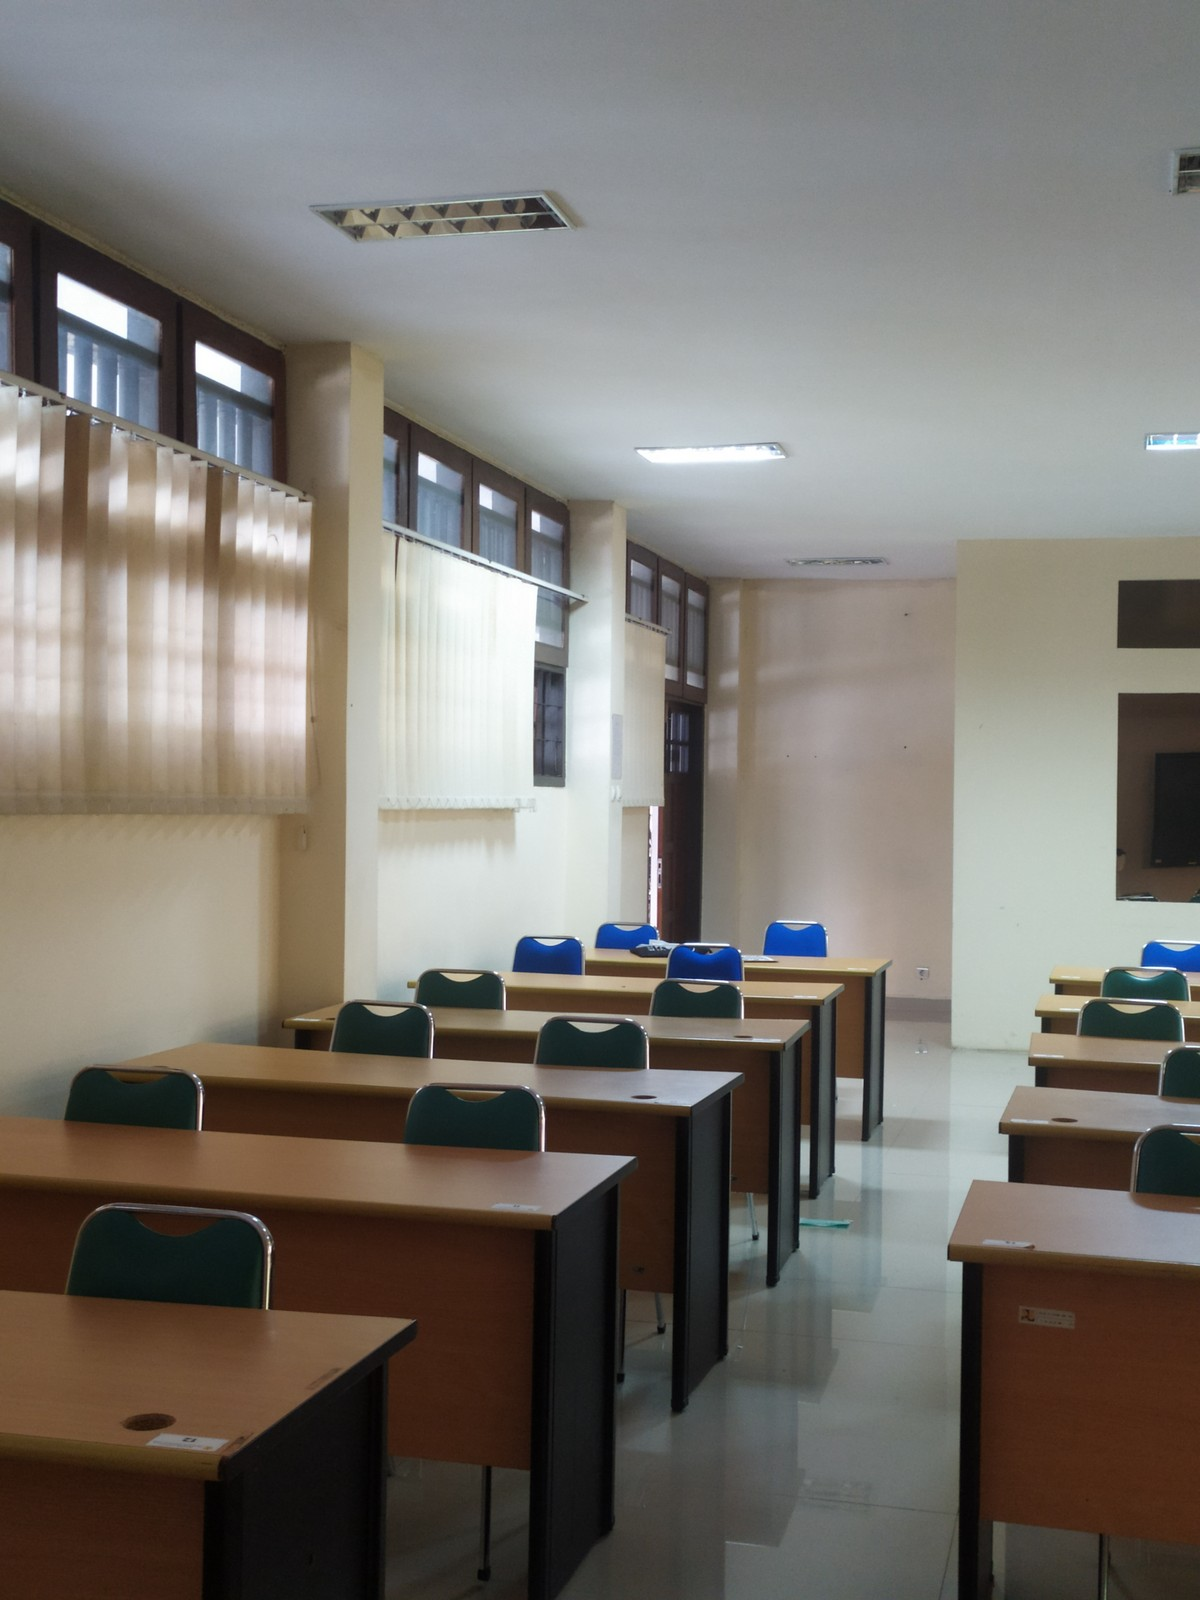concrete column: (268, 329, 387, 1015), (555, 489, 637, 946), (701, 567, 753, 955)
